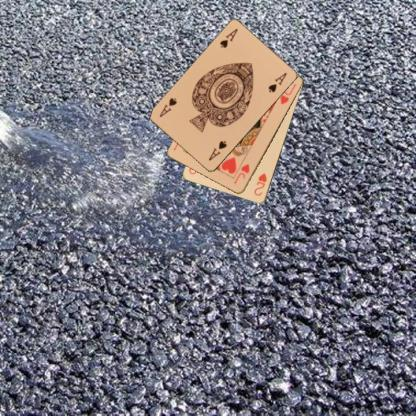2h: (251, 171, 268, 197)
As: (206, 138, 228, 162), (217, 26, 239, 50)
Jh: (231, 162, 251, 185)
